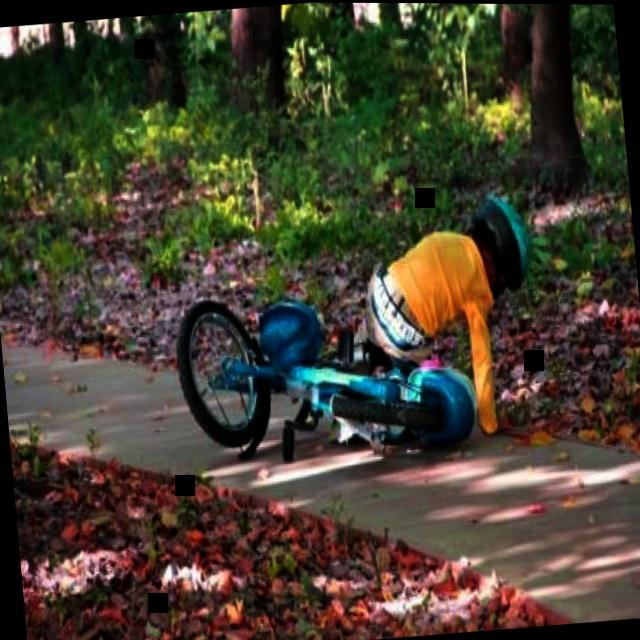Fall-Detected: (335, 158, 557, 446)
